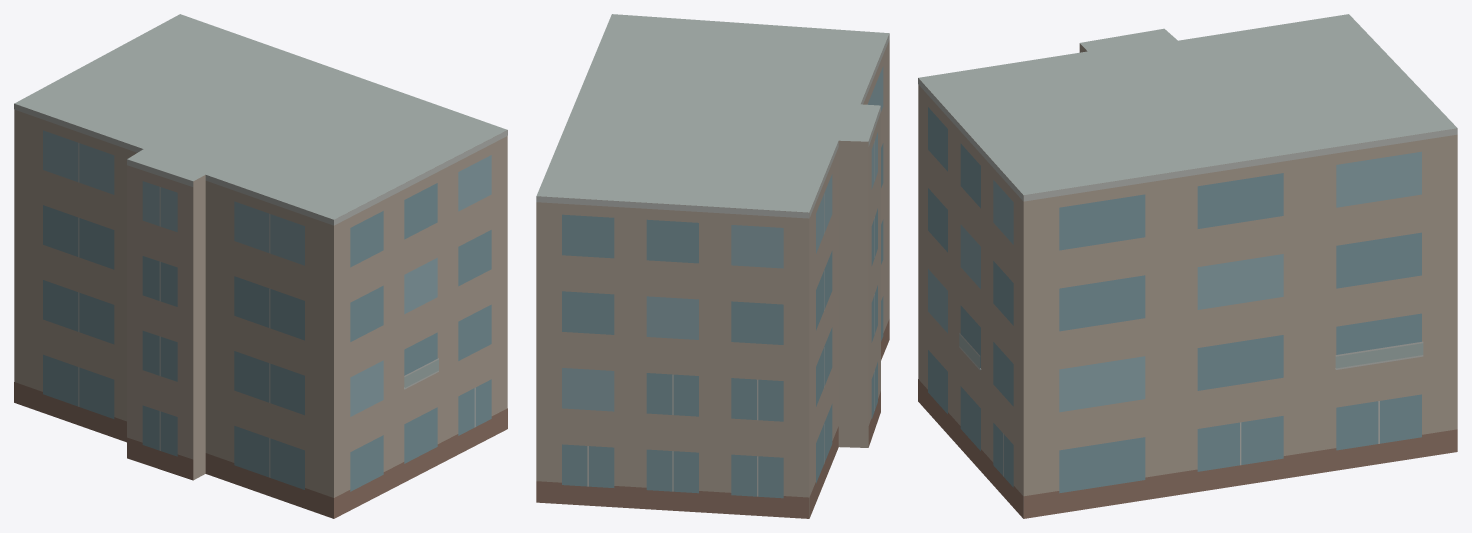
The model's file is survey-upis-32908088.glb.
The picture shows the model from 3 angles, left to right: view 1: azimuth 30°, elevation 25°; view 2: azimuth 150°, elevation 25°; view 3: azimuth 270°, elevation 25°; orthographic projection. The views are drawn at different scales.
Parts seen in each view (by area): view 1: survey-upis-32908088.tmp; view 2: survey-upis-32908088.tmp; view 3: survey-upis-32908088.tmp.
Boxes of the visible parts, x1,y1,x2,y2 form: survey-upis-32908088.tmp: [14, 14, 507, 518]; survey-upis-32908088.tmp: [536, 14, 889, 518]; survey-upis-32908088.tmp: [918, 14, 1457, 518].
Size of the model in its own units: 14.9 by 12.4 by 18.74.
